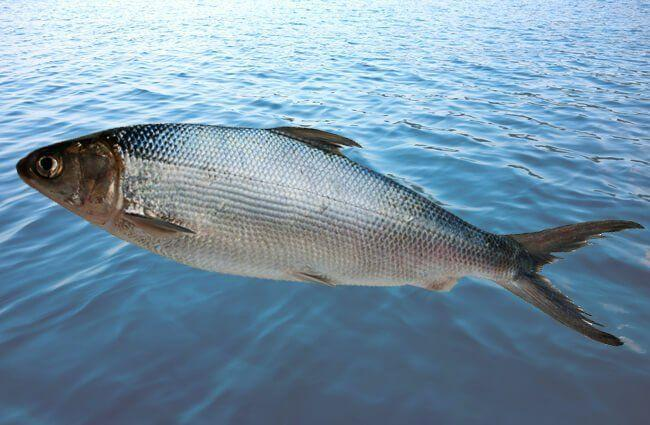Bangus: (15, 123, 646, 352)
